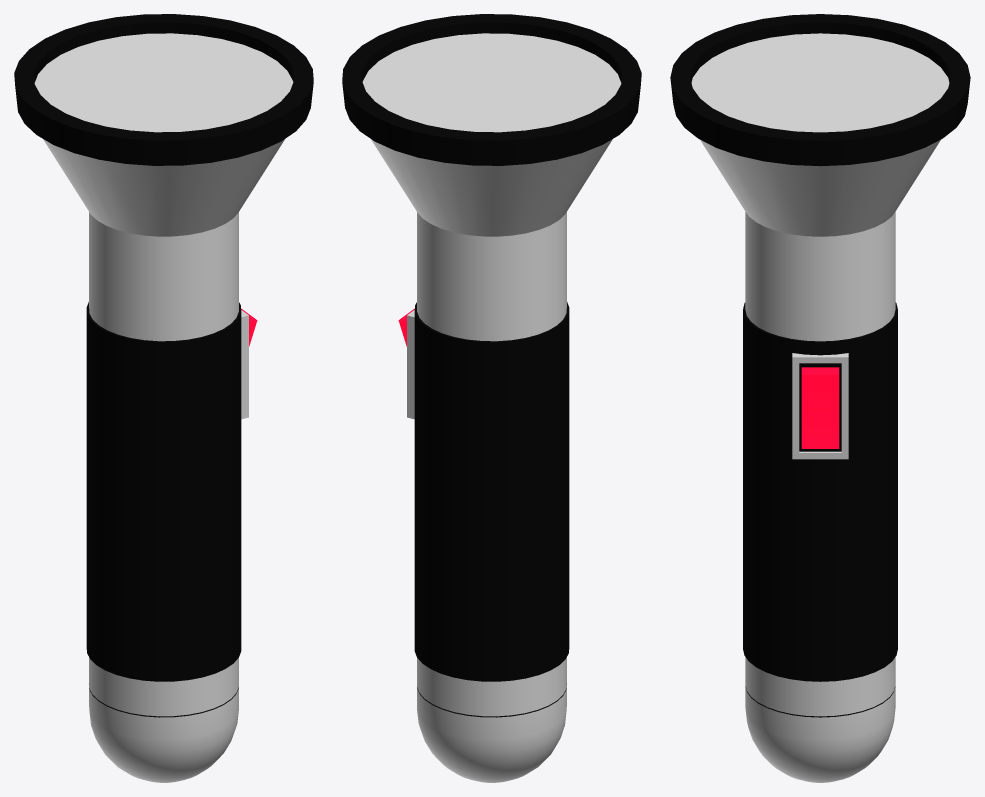
Rendered from FlashLight.fbx.
The picture shows the model from 3 angles, left to right: view 1: azimuth 30°, elevation 25°; view 2: azimuth 150°, elevation 25°; view 3: azimuth 270°, elevation 25°; orthographic projection.
Parts seen in each view (by area): view 1: FlashLight, FlashLight.emit; view 2: FlashLight, FlashLight.emit; view 3: FlashLight, FlashLight.emit, FlashLight.button.
Boxes of the visible parts, x1,y1,x2,y2 form: FlashLight: [14, 14, 313, 782]; FlashLight.emit: [34, 33, 293, 132]; FlashLight: [342, 14, 641, 782]; FlashLight.emit: [362, 33, 621, 132]; FlashLight: [670, 14, 970, 782]; FlashLight.emit: [691, 33, 949, 132]; FlashLight.button: [801, 367, 839, 448].
Bounding box in the file's own units: 200 × 513 × 200.
